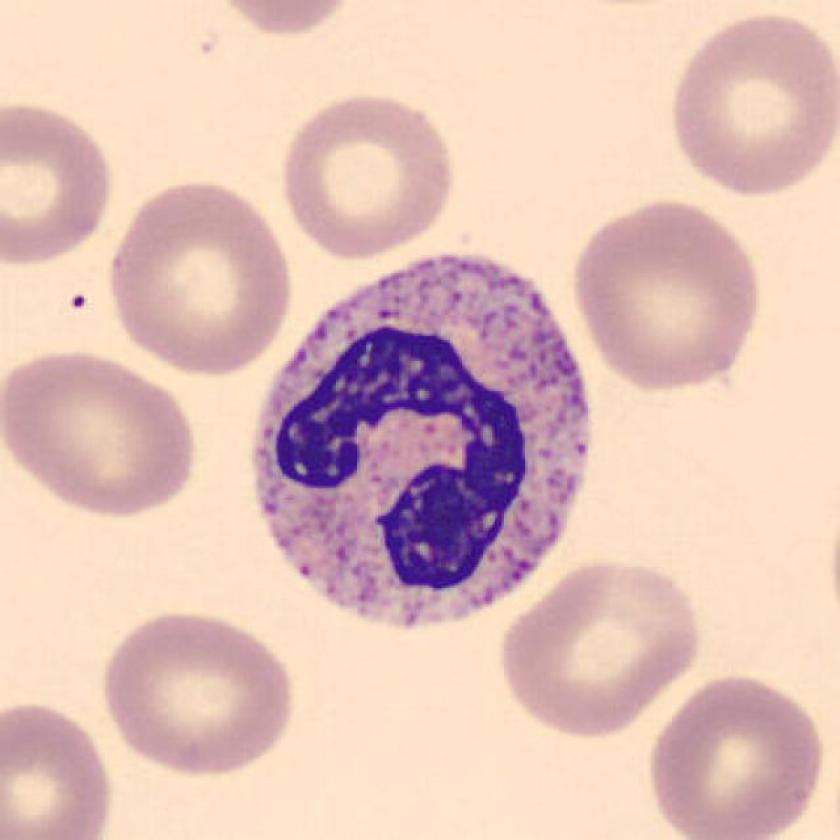neutrophil: (256, 254, 593, 630)
